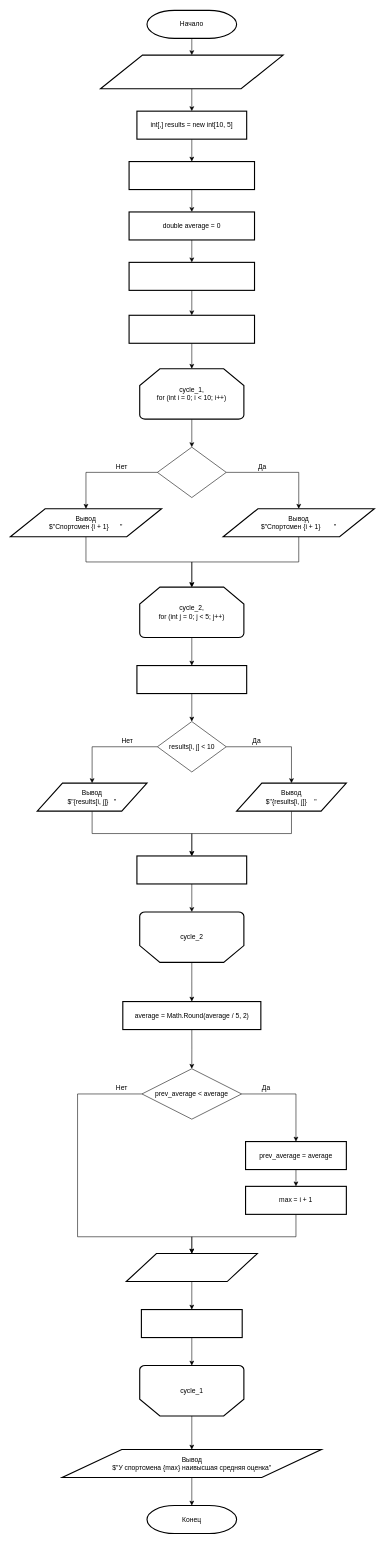
Some shapes in this 384 by 1543 pixel diagram are drawn without their labels. The centre of each missing label's shape, as x and y in pixels:
average = 0: the point at 191,1323
average = average + results[i, j]: the point at 191,869
double prev_average = 0: the point at 191,276
i+1 < 10: the point at 191,472
int max = 0: the point at 191,329
Random random = new Random(): the point at 191,175
results[i, j] = random.Next(1, 11): the point at 191,679
Вывод "РЕЗУЛЬТАТЫ ПЯТИБОРЬЯ\n": the point at 191,71
Вывод $" Ср. оцен. {average}\n": the point at 191,1267
